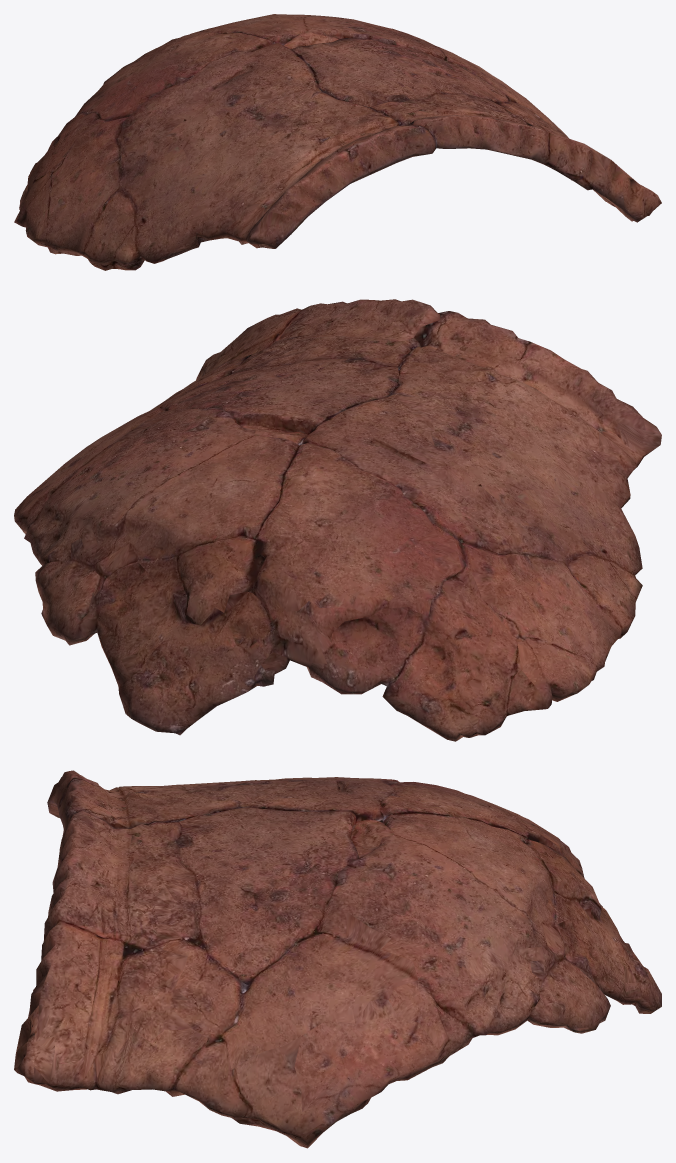
File: cup1_low_re-transformed.glb
The picture shows the model from 3 angles, top to bottom: view 1: azimuth 30°, elevation 25°; view 2: azimuth 150°, elevation 25°; view 3: azimuth 270°, elevation 25°; orthographic projection. The views are drawn at different scales.
Parts seen in each view (by area): view 1: Model; view 2: Model; view 3: Model.
Boxes of the visible parts, <box> form: Model: <box>14,14,661,270</box>; Model: <box>14,299,661,741</box>; Model: <box>14,770,661,1148</box>.
Bounding box in the file's own units: 2.86 × 0.9437 × 2.69.
Materials: 1 (1 with a texture image).
